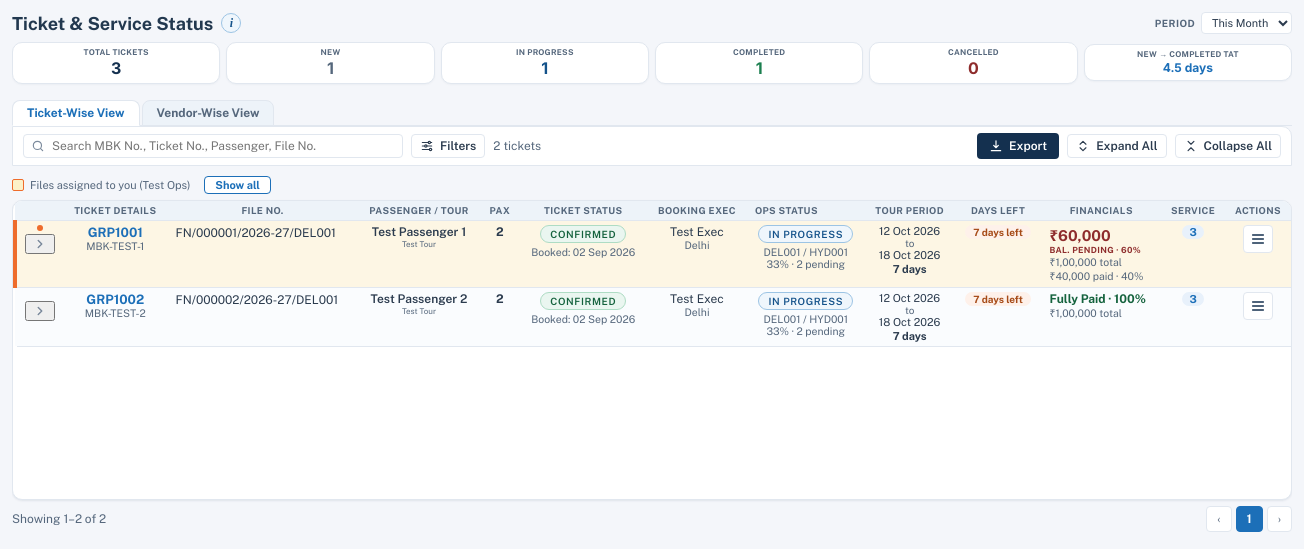
Test: Ins01Page (STPLCostSheetAPI direct) › switching tabs never draws the previous tab's rows in the new table
Expected: the text "GRP1001" is shown, [88,225,143,240]
Click the tab "Vendor-Wise View": click(208, 113) [142,100,274,126]
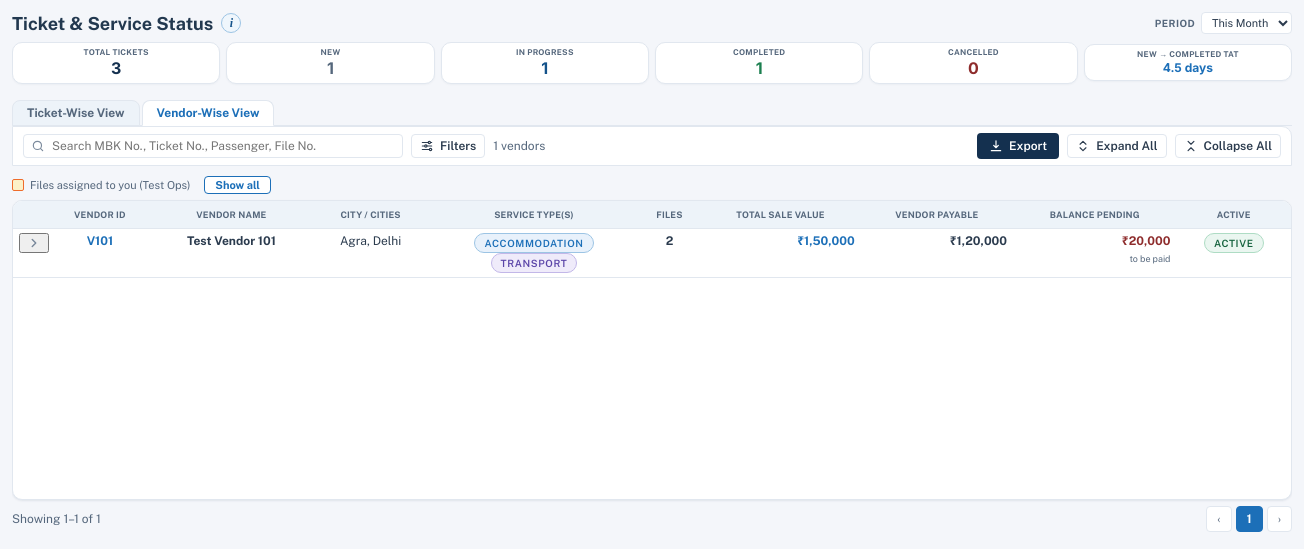
Now the text "Test Vendor 101" is shown, box [187,233,276,250]
Now the text "nan" is gone
Now the text "GRP1001" is gone
